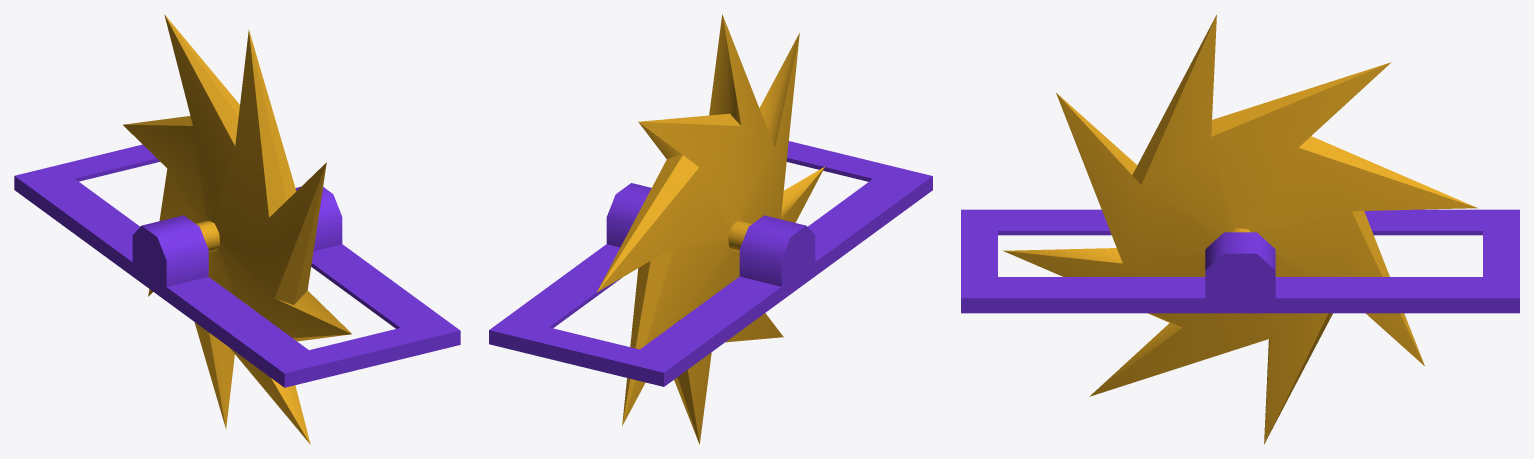
The model's file is Saw.fbx.
3 views of the same model, side by side, from view 1: azimuth 30°, elevation 25°; view 2: azimuth 150°, elevation 25°; view 3: azimuth 270°, elevation 25° (orthographic). The views are drawn at different scales.
Visible parts, largest first — view 1: disk, barier_3; view 2: disk, barier_3; view 3: disk, barier_3.
Part boxes in pixels (x1=…): disk: x1=123, y1=14, x2=351, y2=444; barier_3: x1=14, y1=144, x2=460, y2=387; disk: x1=597, y1=14, x2=824, y2=444; barier_3: x1=489, y1=141, x2=932, y2=386; disk: x1=1003, y1=14, x2=1477, y2=444; barier_3: x1=961, y1=209, x2=1519, y2=313.
Bounding box in the file's own units: 0.9181 × 2.08 × 2.44.
